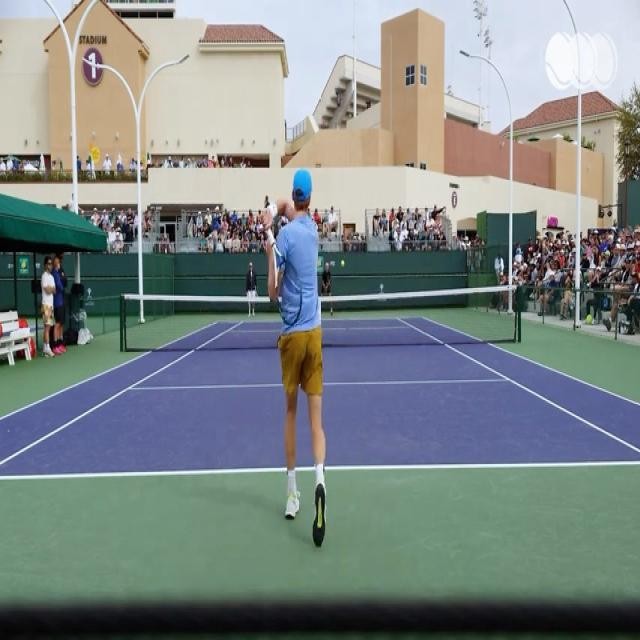forehand-finish: (254, 172, 338, 549)
